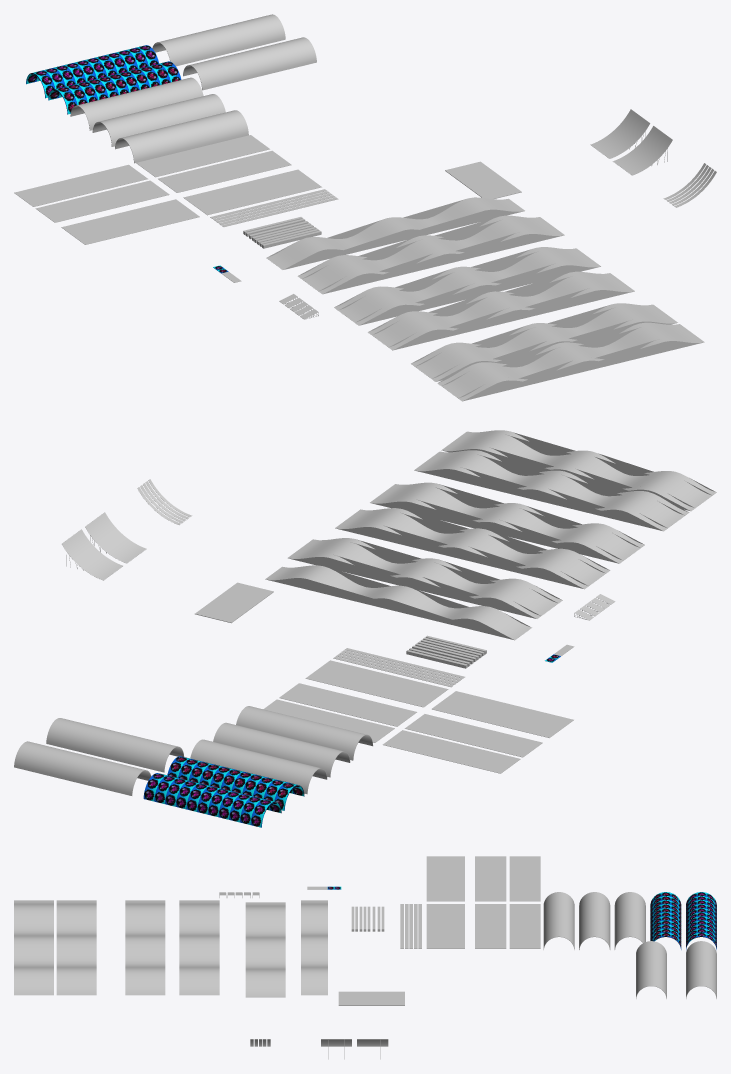
File: Bike Stunts Models.FBX
3 views of the same model, one above another, from view 1: azimuth 30°, elevation 25°; view 2: azimuth 150°, elevation 25°; view 3: azimuth 270°, elevation 25° (orthographic). The views are drawn at different scales.
Visible parts, largest first — view 1: curved, curved 011, curved 010, curved 008, curved 009, curved 007, hut006, hut, hut005, curved_side_object 005, curved_side_object 004, hut003 (+19 smaller); view 2: curved, curved 008, curved 007, curved 009, curved 011, curved 010, hut004, hut006, hut005, curved_side_object 003, curved_side_object 001, hut003 (+19 smaller); view 3: curved 011, curved, curved 007, curved 008, curved 009, curved 010, hut001, hut, Rainbow panel 001, Strate panel 006, Strate pnel 02 001, hut002 (+17 smaller).
Boxes of the visible parts, x1=… form: curved: x1=266, y1=197, x2=524, y2=269; curved 011: x1=441, y1=325, x2=700, y2=398; curved 010: x1=415, y1=306, x2=673, y2=378; curved 008: x1=338, y1=250, x2=596, y2=322; curved 009: x1=372, y1=274, x2=630, y2=347; curved 007: x1=302, y1=218, x2=560, y2=291; hut006: x1=183, y1=37, x2=316, y2=90; hut: x1=115, y1=110, x2=248, y2=163; hut005: x1=152, y1=14, x2=285, y2=66; curved_side_object 005: x1=355, y1=262, x2=600, y2=325; curved_side_object 004: x1=318, y1=231, x2=564, y2=294; hut003: x1=48, y1=61, x2=181, y2=114; curved: x1=265, y1=565, x2=531, y2=640; curved 008: x1=339, y1=511, x2=605, y2=585; curved 007: x1=292, y1=541, x2=558, y2=615; curved 009: x1=374, y1=485, x2=640, y2=560; curved 011: x1=446, y1=433, x2=712, y2=507; curved 010: x1=418, y1=453, x2=684, y2=527; hut004: x1=143, y1=773, x2=281, y2=827; hut006: x1=46, y1=718, x2=184, y2=772; hut005: x1=14, y1=741, x2=151, y2=795; curved_side_object 003: x1=414, y1=466, x2=667, y2=531; curved_side_object 001: x1=370, y1=498, x2=623, y2=563; hut003: x1=167, y1=756, x2=304, y2=810; curved 011: x1=20, y1=900, x2=47, y2=995; curved: x1=301, y1=900, x2=327, y2=995; curved 007: x1=252, y1=902, x2=278, y2=997; curved 008: x1=186, y1=900, x2=212, y2=995; curved 009: x1=132, y1=900, x2=158, y2=995; curved 010: x1=63, y1=900, x2=89, y2=995; hut001: x1=579, y1=892, x2=610, y2=949; hut: x1=543, y1=892, x2=574, y2=949; Rainbow panel 001: x1=430, y1=856, x2=461, y2=901; Strate panel 006: x1=509, y1=856, x2=540, y2=901; Strate pnel 02 001: x1=475, y1=856, x2=506, y2=901; hut002: x1=614, y1=892, x2=645, y2=949.
Size of the model in its own units: 2835 by 146 by 4134.
